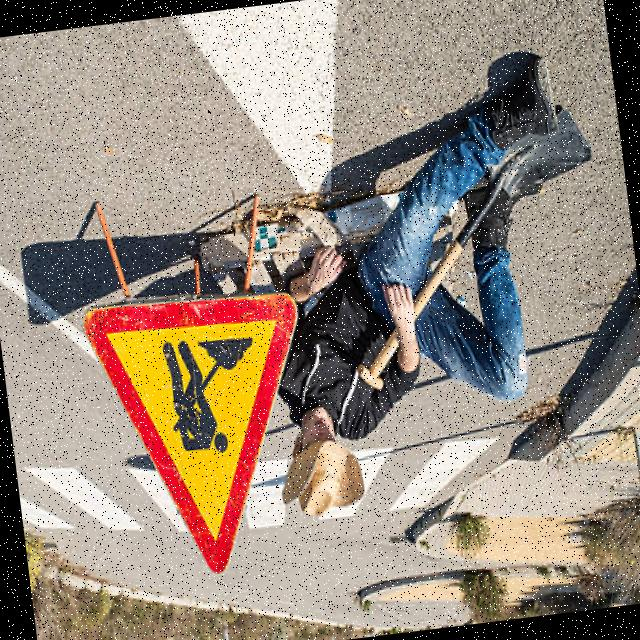road_work: (82, 286, 298, 572)
